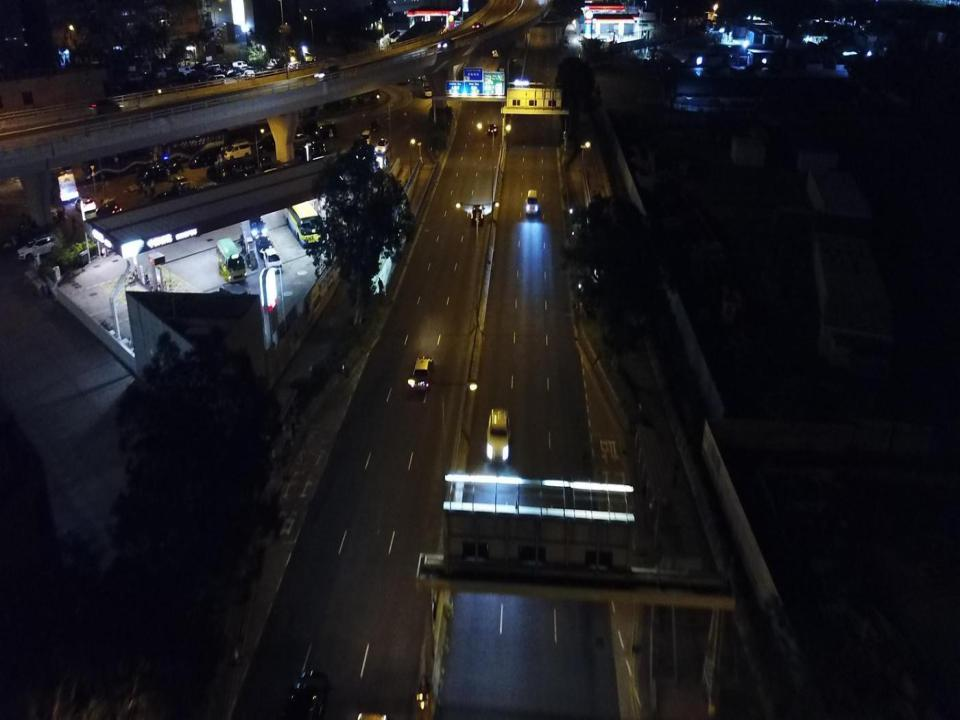bus: (281, 191, 322, 247), (30, 155, 79, 201), (419, 66, 435, 97), (493, 29, 500, 57), (563, 35, 569, 48)
car: (290, 669, 329, 719), (485, 408, 512, 464), (17, 233, 60, 261), (409, 355, 432, 393), (96, 202, 122, 220), (313, 124, 337, 139), (75, 196, 96, 212), (174, 175, 190, 190), (290, 132, 309, 144), (375, 138, 389, 153), (437, 40, 454, 50), (370, 118, 378, 130), (488, 124, 497, 134), (472, 22, 484, 29), (232, 70, 244, 77)
van: (136, 163, 166, 182), (224, 141, 252, 161), (524, 186, 537, 221), (188, 152, 218, 167), (192, 181, 218, 198), (257, 135, 283, 151), (314, 64, 340, 79), (206, 164, 228, 181), (254, 153, 273, 172), (153, 192, 180, 205), (471, 202, 486, 225), (57, 158, 74, 176), (208, 74, 226, 85), (176, 56, 192, 68), (155, 66, 173, 76), (178, 67, 196, 76), (128, 72, 144, 82), (233, 60, 249, 70), (362, 129, 371, 144), (206, 62, 220, 70), (240, 70, 253, 78), (245, 72, 256, 80)
